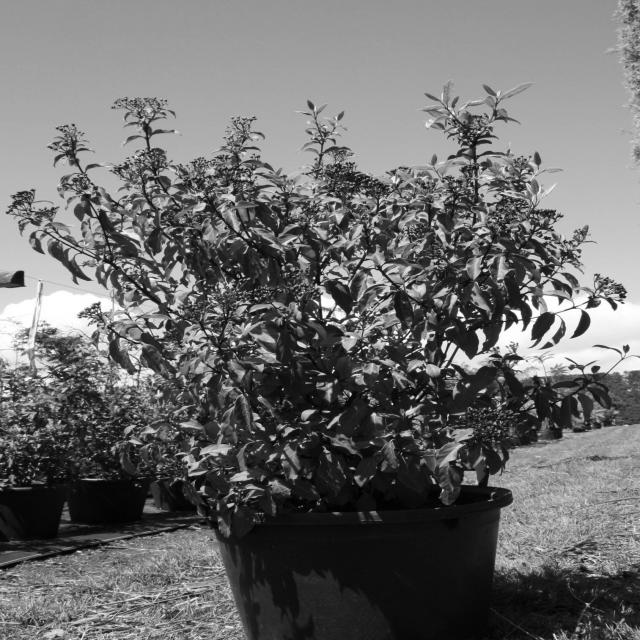Viburnum Emerald Beauty: (5, 80, 629, 540)
